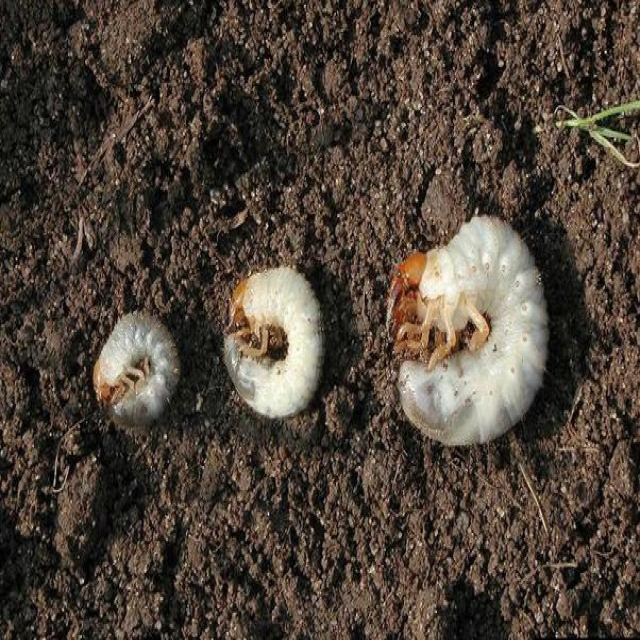Grub-Adult-: (368, 201, 562, 482), (218, 246, 340, 446), (85, 274, 188, 451)
